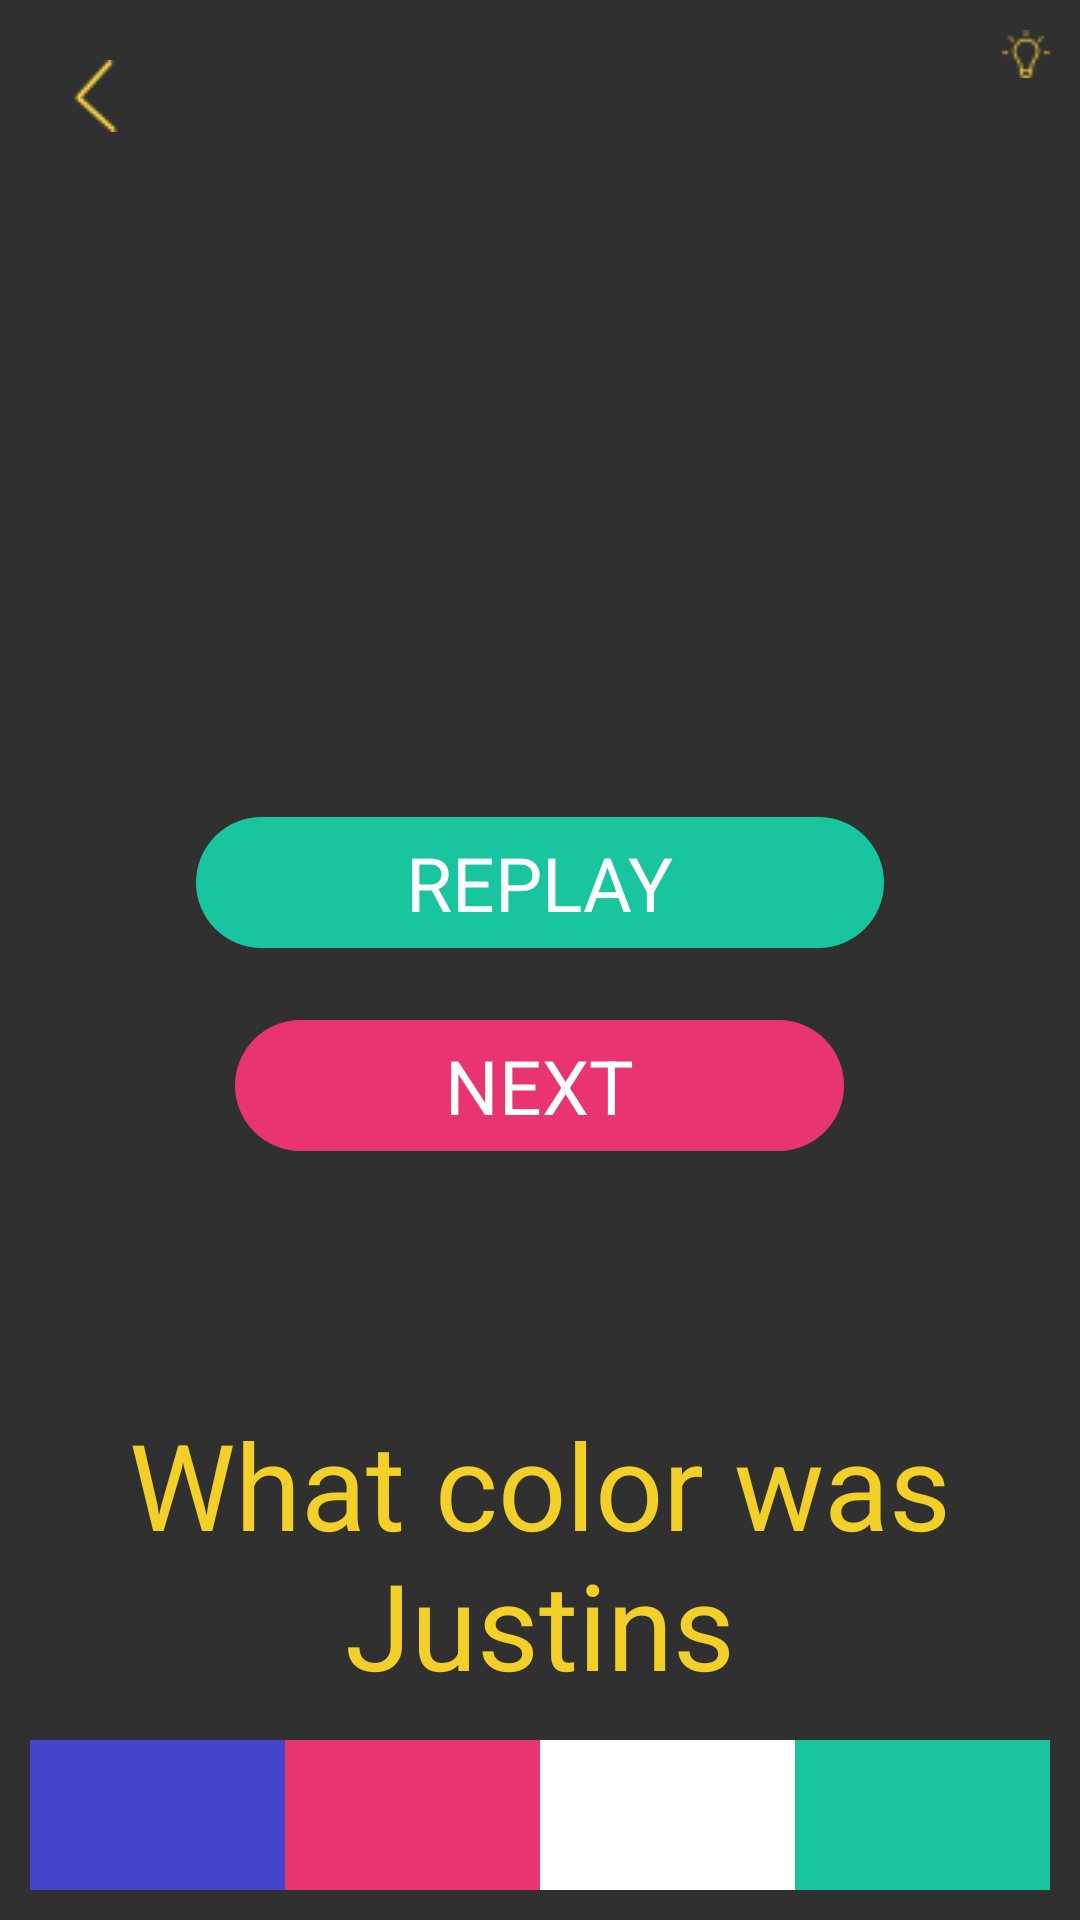

Icons on this 1080×1920 Android screen, each with its box as (x1, y1, x2, y2):
arrow: (74, 60, 117, 132)
lightbulb: (1002, 30, 1050, 78)
